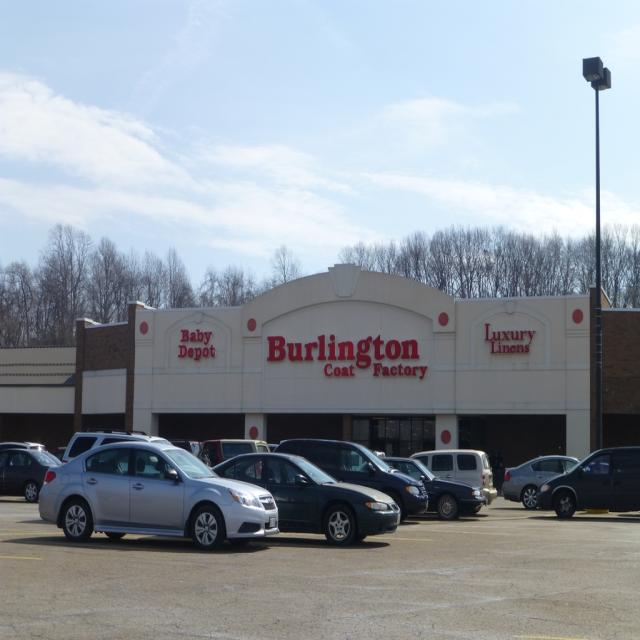car: (26, 439, 276, 553), (210, 445, 399, 544)
